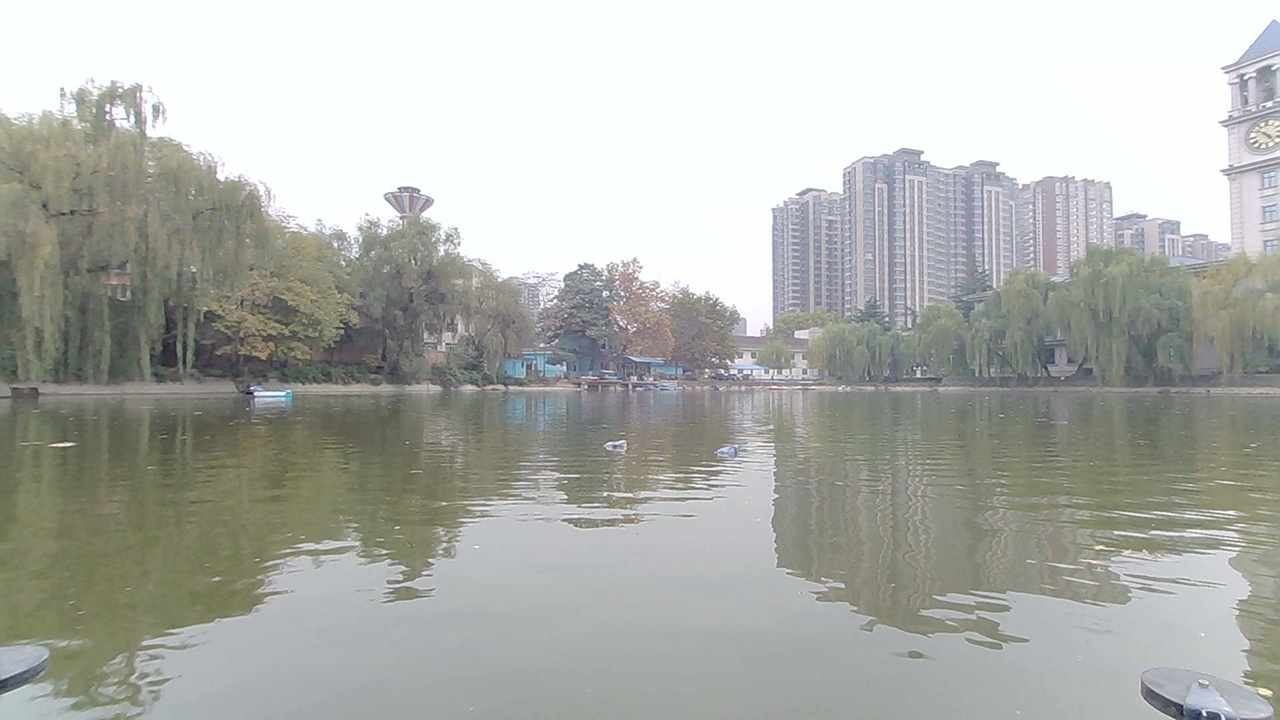bottle: (596, 428, 635, 454), (715, 444, 748, 461)
